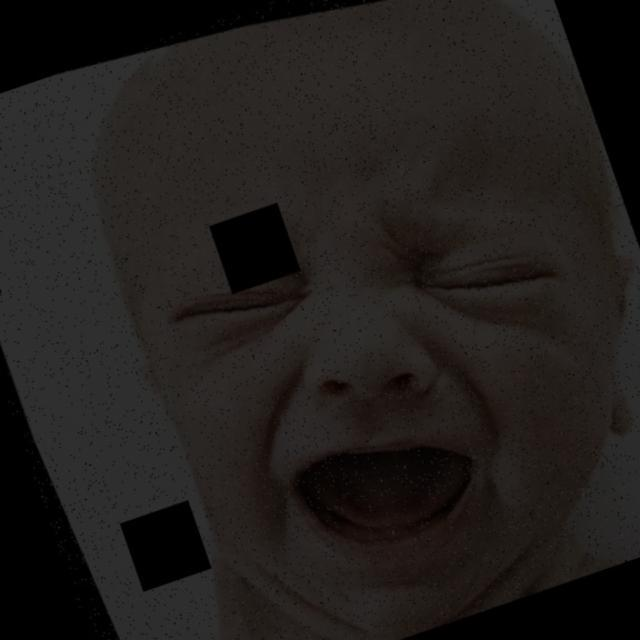Sad: (146, 199, 626, 604)
